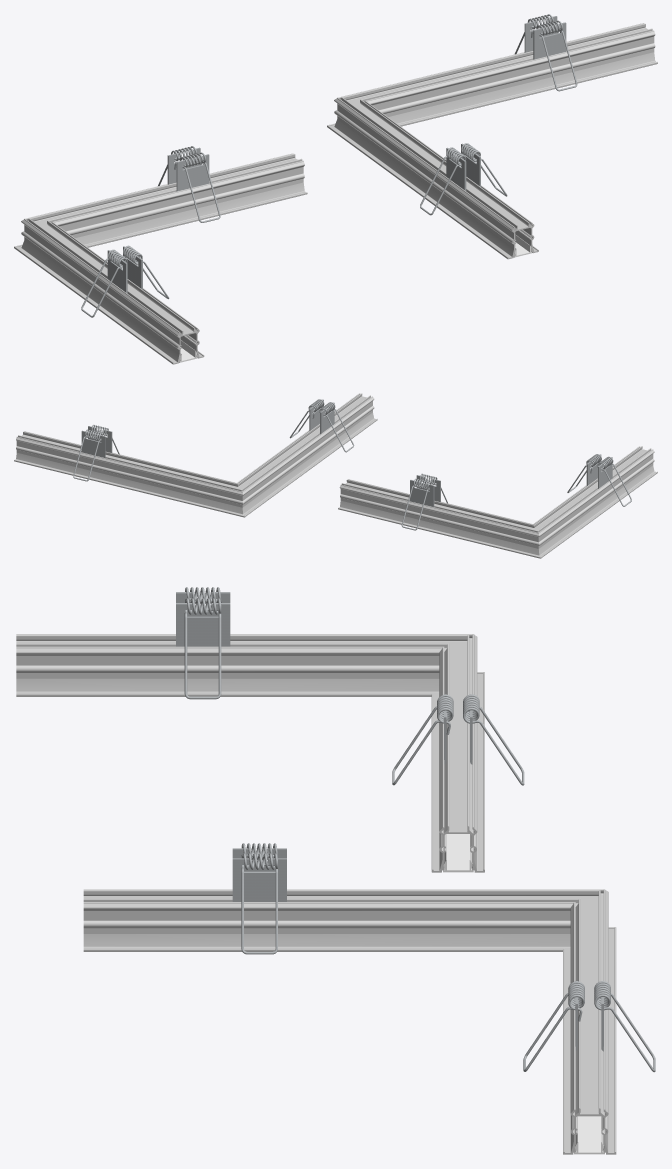
File: Fit15StandardEmbutido-curva-direita-esquerda.glb
3 renders of one model, top to bottom at view 1: azimuth 30°, elevation 25°; view 2: azimuth 150°, elevation 25°; view 3: azimuth 270°, elevation 25°, orthographic. The views are drawn at different scales.
Visible parts, largest first — view 1: 3DGeom-14, 3DGeom-2, 3DGeom-13, 3DGeom-1, 3DGeom-15 (×2), 3DGeom-3, 3DGeom-16, 3DGeom-4; view 2: 3DGeom-14, 3DGeom-2, 3DGeom-13, 3DGeom-1, 3DGeom-3 (×2), 3DGeom-15 (×2), 3DGeom-16 (×2), 3DGeom-4 (×2); view 3: 3DGeom-13, 3DGeom-1, 3DGeom-14, 3DGeom-2, 3DGeom-4 (×3), 3DGeom-16 (×3), 3DGeom-3, 3DGeom-15, 3DGeom-8, 3DGeom-24.
Part boxes in pixels (<box>): 3DGeom-14: <box>328,23,657,126</box>; 3DGeom-2: <box>15,153,307,247</box>; 3DGeom-13: <box>327,97,538,259</box>; 3DGeom-1: <box>14,218,204,364</box>; 3DGeom-15 (×2): <box>446,22,566,190</box>; 3DGeom-3: <box>176,154,209,191</box>; 3DGeom-16: <box>536,20,577,91</box>; 3DGeom-4: <box>180,152,220,222</box>; 3DGeom-14: <box>14,431,244,517</box>; 3DGeom-2: <box>338,479,540,558</box>; 3DGeom-13: <box>237,393,377,516</box>; 3DGeom-1: <box>533,446,657,558</box>; 3DGeom-3 (×2): <box>410,457,612,506</box>; 3DGeom-15 (×2): <box>81,402,334,457</box>; 3DGeom-16 (×2): <box>73,402,354,481</box>; 3DGeom-4 (×2): <box>401,456,631,530</box>; 3DGeom-13: <box>83,889,614,951</box>; 3DGeom-1: <box>16,634,483,696</box>; 3DGeom-14: <box>563,889,616,1154</box>; 3DGeom-2: <box>431,634,484,872</box>; 3DGeom-4 (×3): <box>184,598,524,785</box>; 3DGeom-16 (×3): <box>241,853,655,1072</box>; 3DGeom-3: <box>176,603,230,646</box>; 3DGeom-15: <box>232,858,286,901</box>; 3DGeom-8: <box>443,834,473,872</box>; 3DGeom-24: <box>574,1116,604,1154</box>.
Bounding box in the file's own units: 0.5541 × 0.0488 × 0.3002.
Materials: 3 (1 with a texture image).
